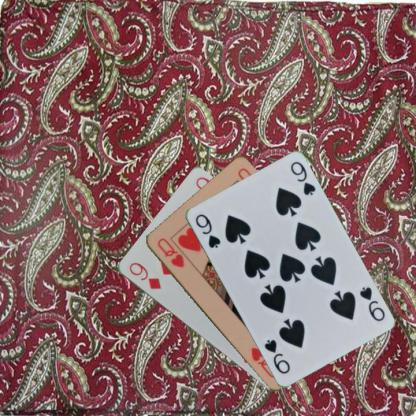9d: (126, 260, 162, 290)
9s: (192, 211, 222, 249), (356, 284, 386, 322)
Qh: (154, 235, 186, 269)
